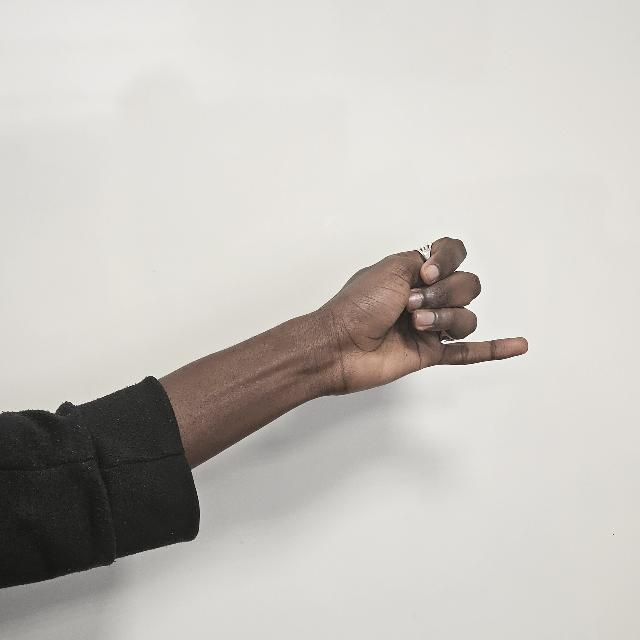Esquerda: (333, 230, 529, 384)
